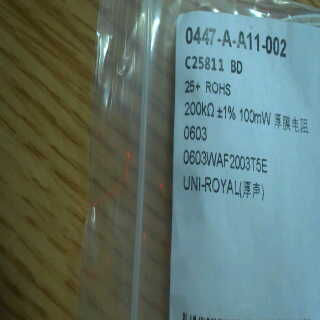200kR: (183, 98, 219, 120)
